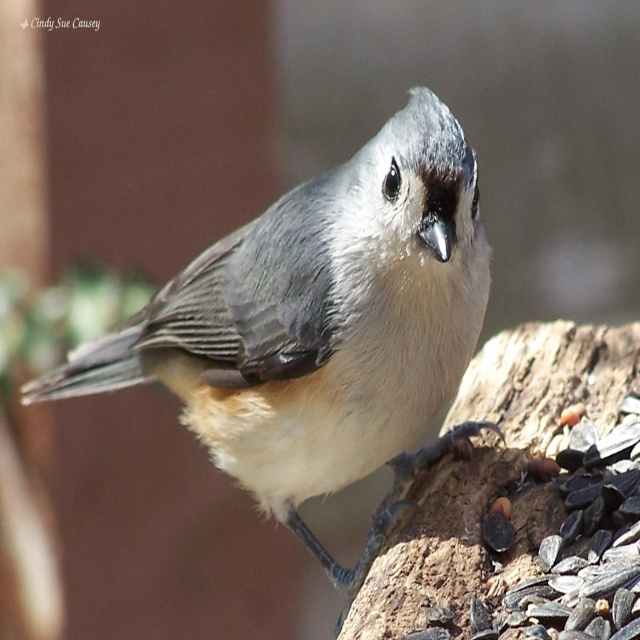Sparrow: (19, 86, 506, 636)
